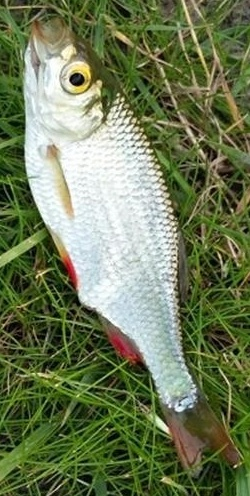Scardinius erythrophthalmus: (20, 20, 230, 476)
